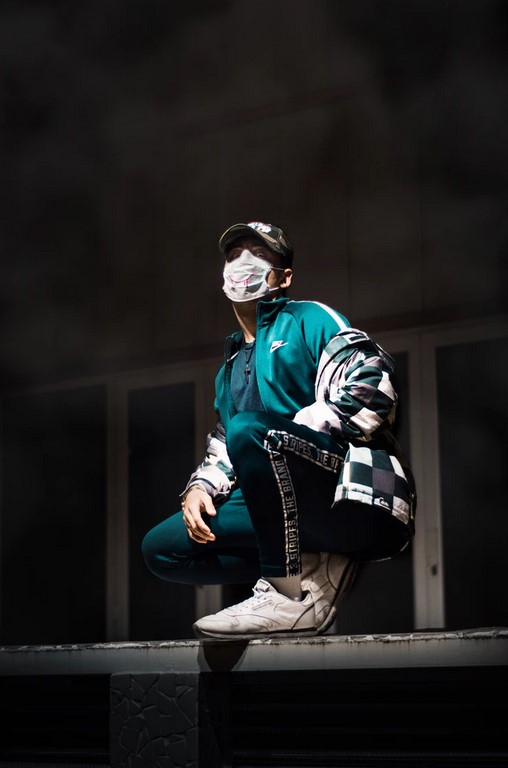face_with_mask: (213, 218, 293, 315)
